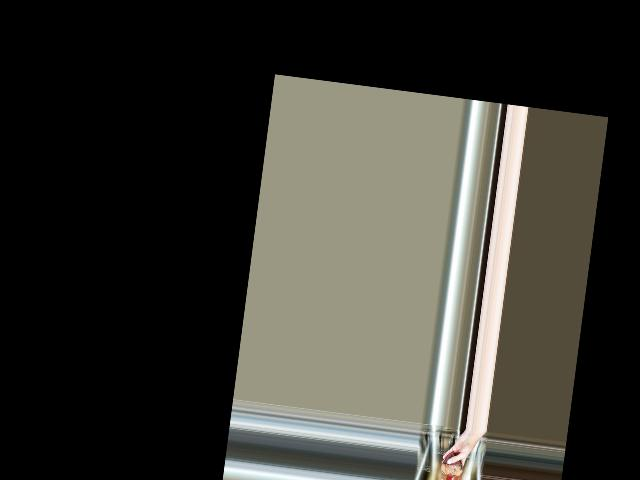beet: (437, 451, 464, 480)
